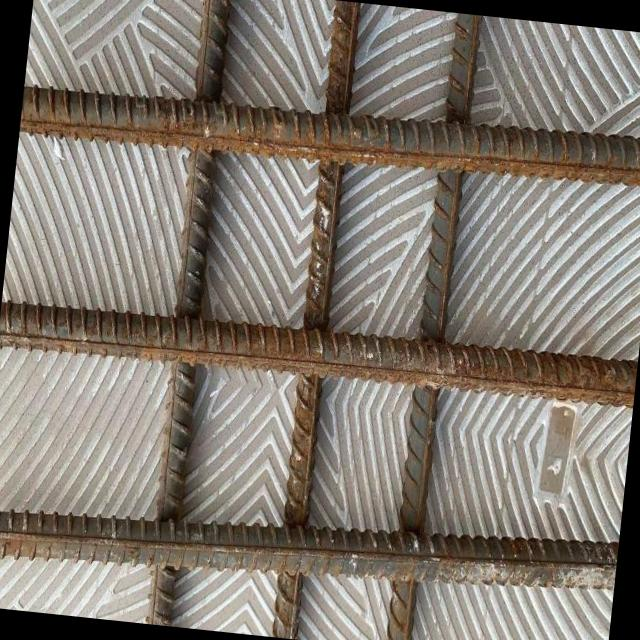ribbed bar: (0, 471, 619, 624), (18, 73, 640, 201), (0, 291, 638, 415), (136, 0, 239, 625), (382, 12, 483, 640), (266, 0, 365, 638)
